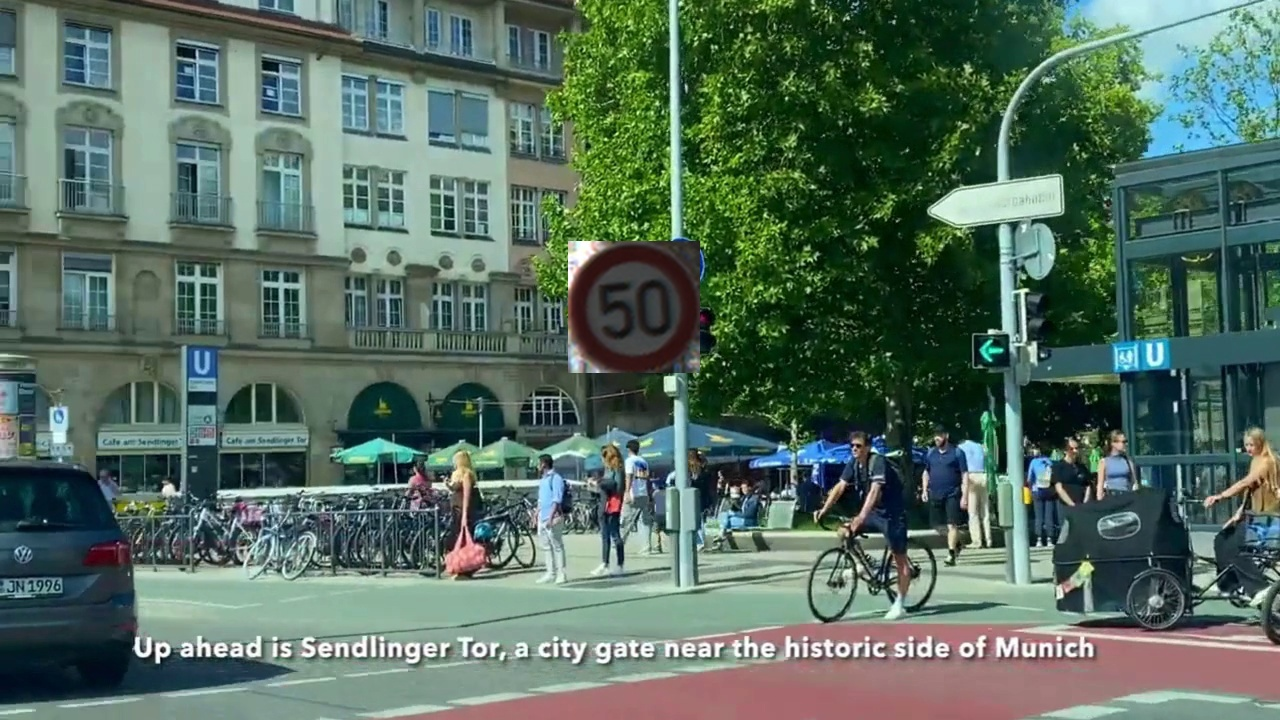Speed 50: (568, 241, 700, 373)
